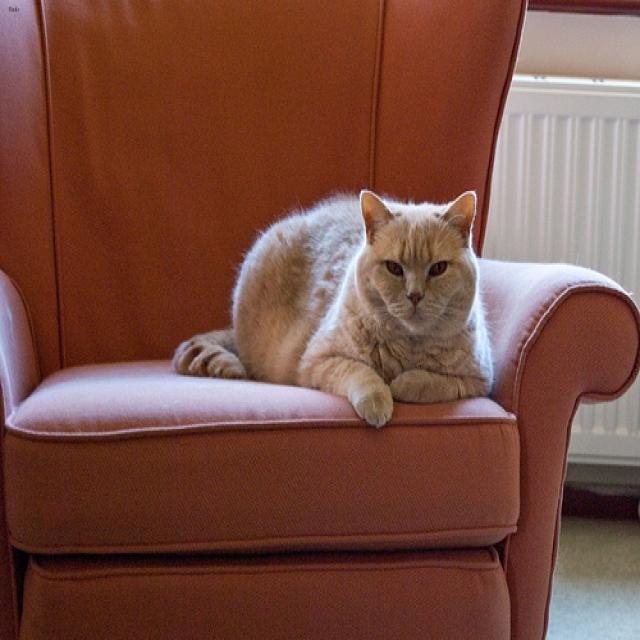British_Shorthair: (354, 187, 480, 341)
